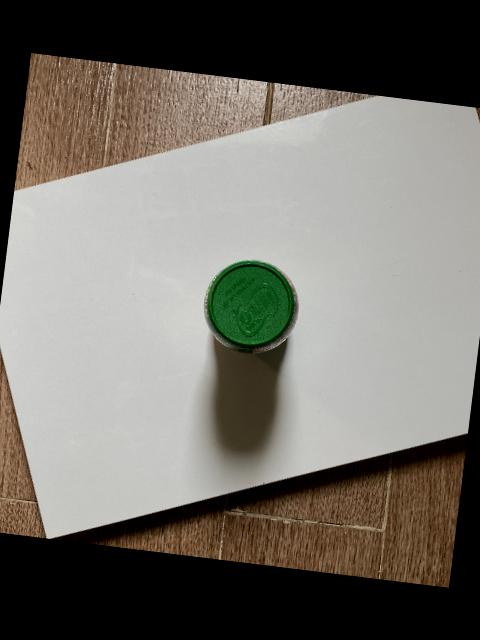milo: (202, 258, 298, 354)
